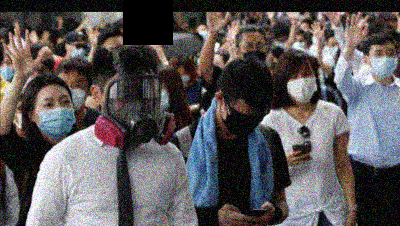with_mask: (101, 81, 162, 143), (33, 93, 76, 138), (223, 102, 265, 138), (286, 67, 318, 101), (59, 75, 88, 109), (370, 47, 398, 76), (240, 39, 268, 63), (69, 40, 89, 60), (36, 51, 55, 72), (1, 56, 16, 81)
